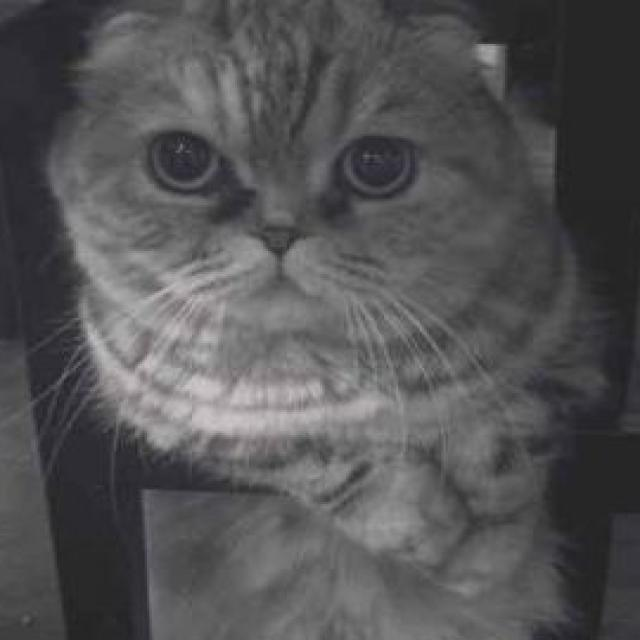Scottish Fold: (38, 0, 616, 640)
